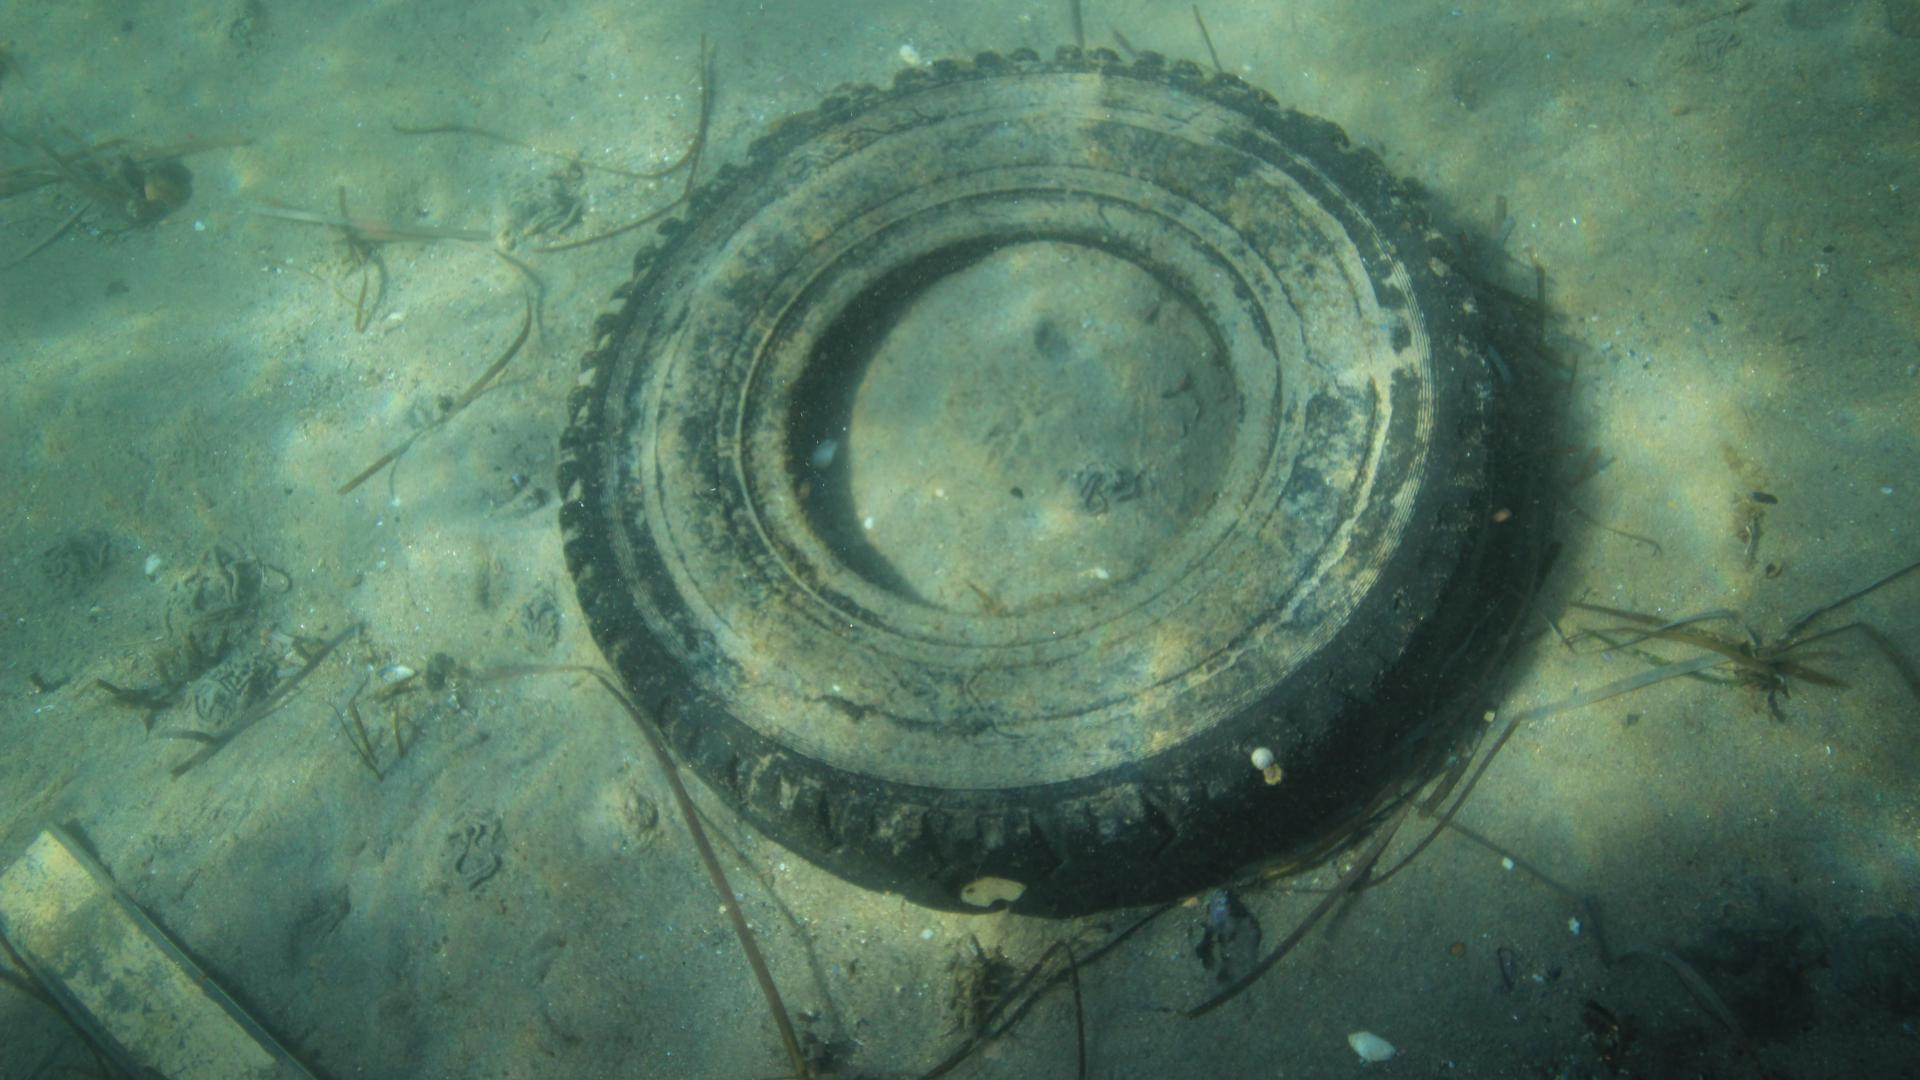tire: (554, 40, 1498, 913)
